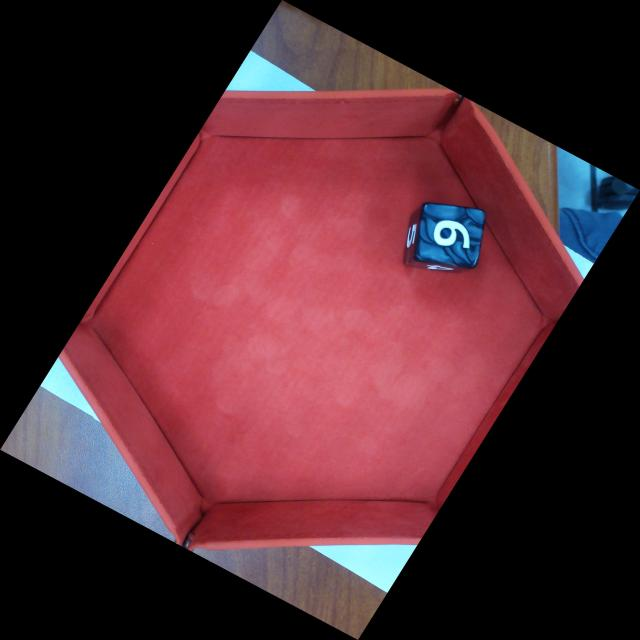dice: (413, 204, 486, 267)
